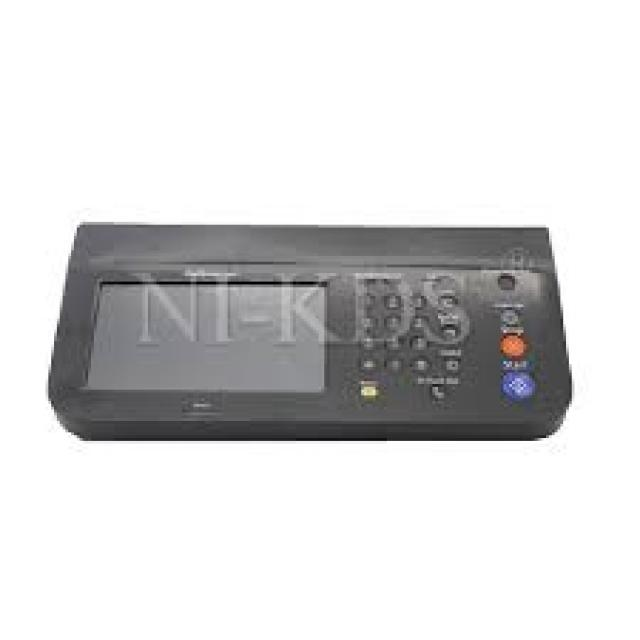printer: (45, 211, 575, 447)
